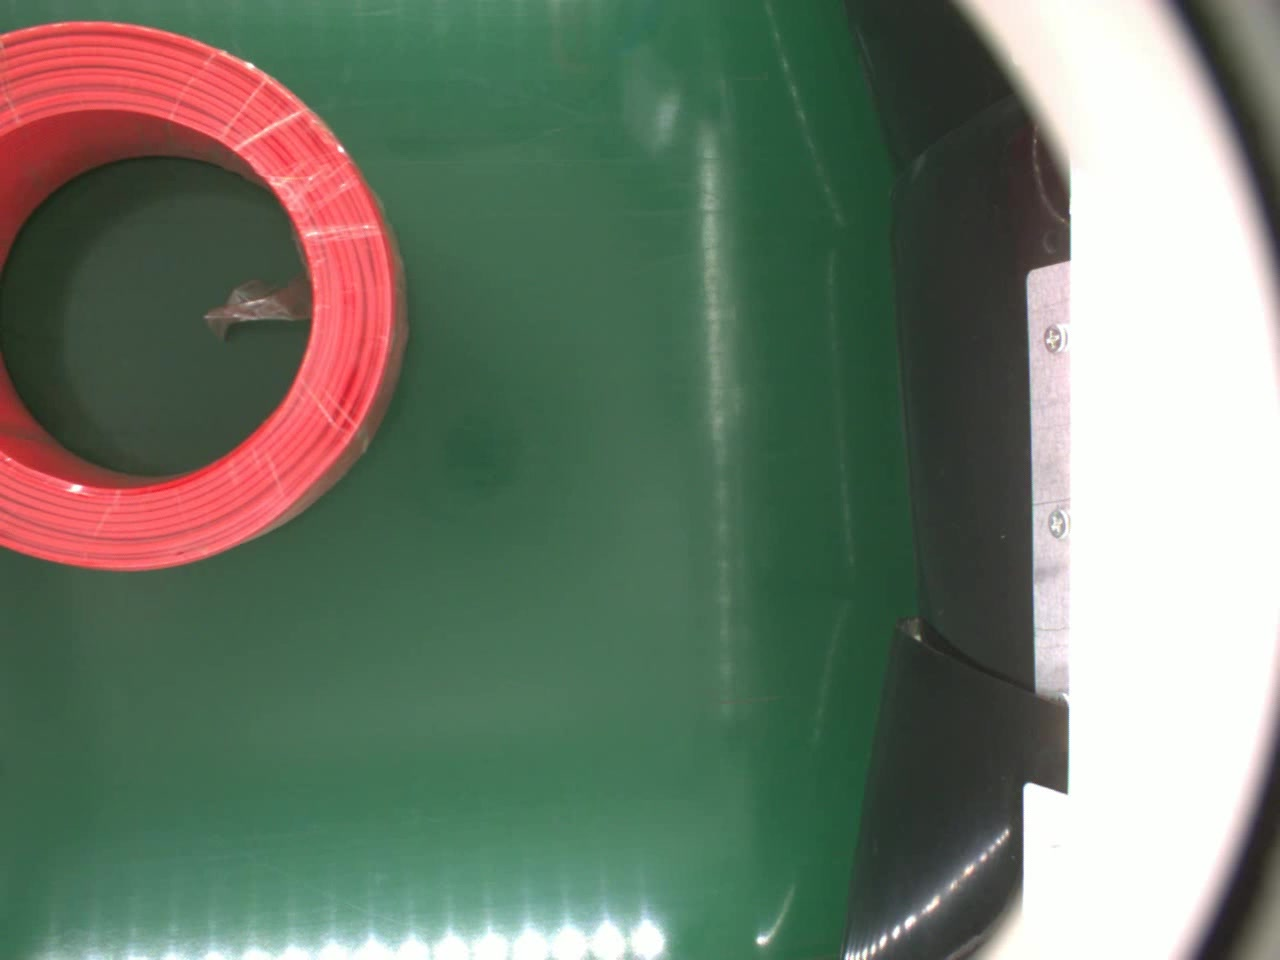red: (0, 18, 408, 576)
